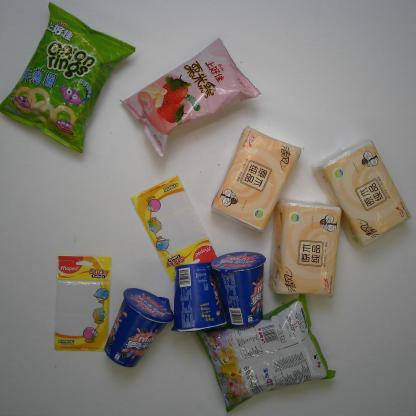Dessert: (102, 287, 173, 371), (169, 260, 229, 335), (214, 250, 268, 332)
Puffed Food: (1, 1, 134, 156), (121, 37, 262, 156), (199, 293, 337, 412)
Stationery: (133, 176, 220, 280), (52, 253, 113, 355)
Tissue: (316, 137, 413, 249), (210, 126, 306, 233), (271, 200, 346, 298)
